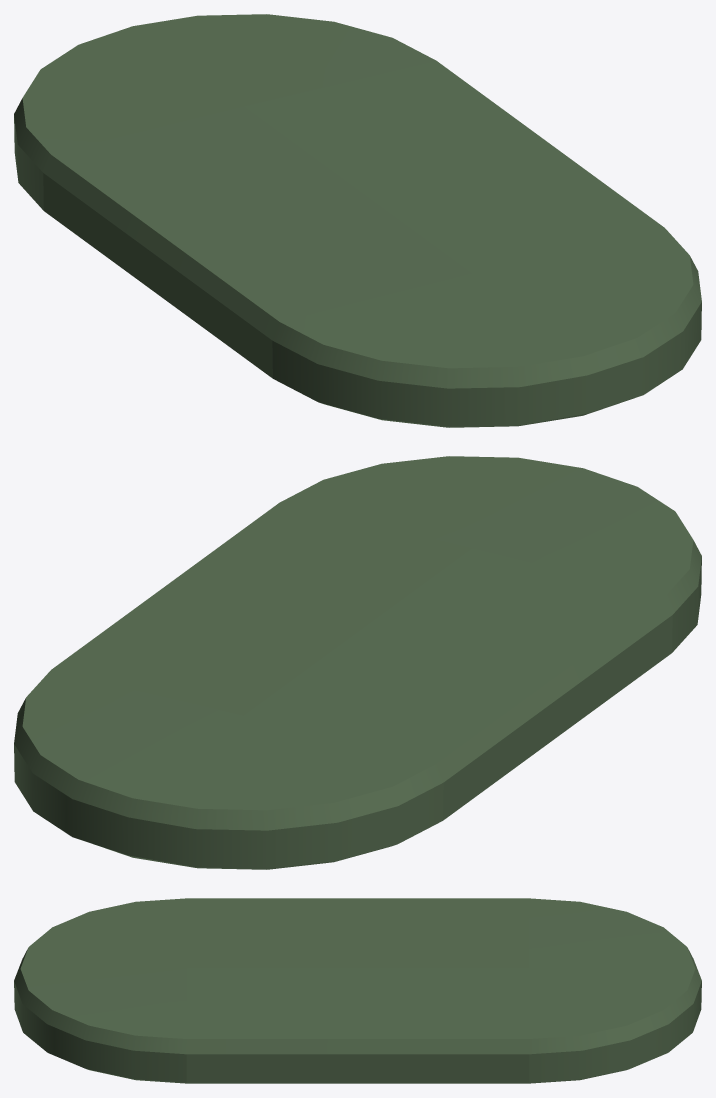
Rendered from Checker_Sp_013.fbx.
The picture shows the model from 3 angles, top to bottom: view 1: azimuth 30°, elevation 25°; view 2: azimuth 150°, elevation 25°; view 3: azimuth 270°, elevation 25°; orthographic projection. The views are drawn at different scales.
Visible parts, largest first — view 1: Checker_Sp_013; view 2: Checker_Sp_013; view 3: Checker_Sp_013.
Boxes of the visible parts, x1,y1,x2,y2 form: Checker_Sp_013: [14, 14, 701, 427]; Checker_Sp_013: [14, 456, 701, 869]; Checker_Sp_013: [14, 898, 701, 1083].
Bounding box in the file's own units: 5.62 × 0.8372 × 11.18.
